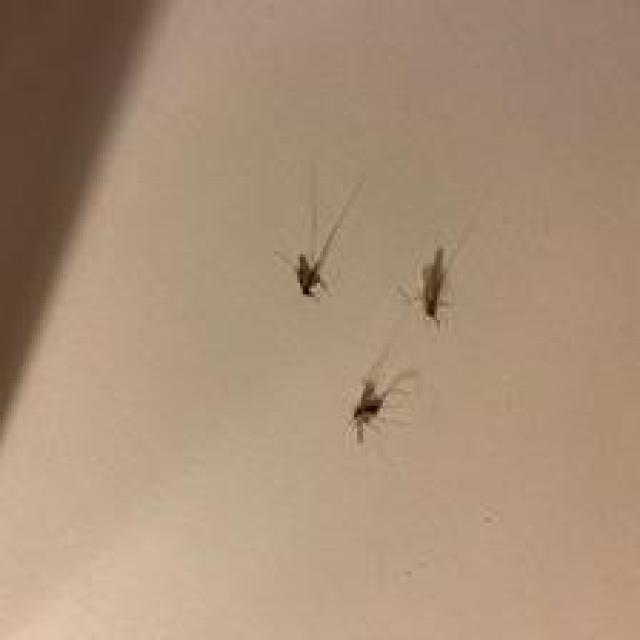Culex: (273, 158, 364, 298)
